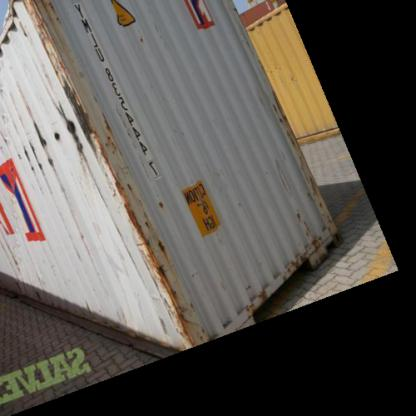Damage: (107, 170, 201, 346), (262, 87, 331, 248), (48, 72, 128, 163), (13, 117, 52, 179)
